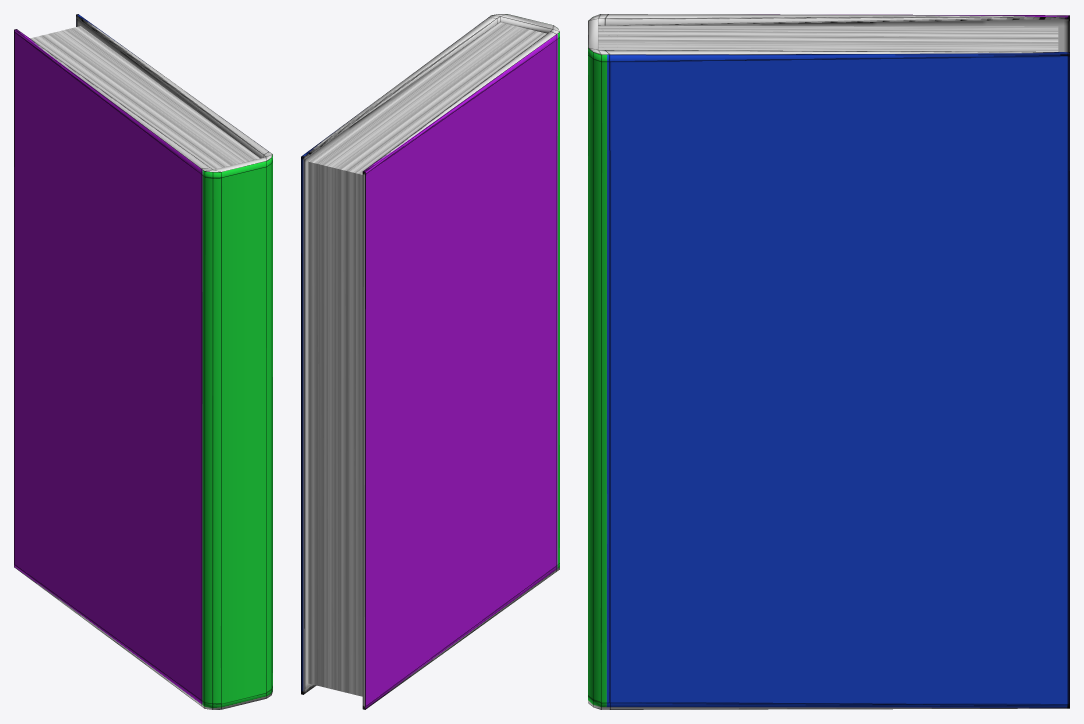
File: book.gltf
3 views of the same model, side by side, from view 1: azimuth 30°, elevation 25°; view 2: azimuth 150°, elevation 25°; view 3: azimuth 270°, elevation 25° (orthographic). The views are drawn at different scales.
Visible parts, largest first — view 1: Cube, Cube.001; view 2: Cube, Cube.001; view 3: Cube, Cube.001.
Part boxes in pixels (x1,y1,x2,y2): Cube: [14, 14, 272, 709]; Cube.001: [30, 26, 259, 169]; Cube: [301, 14, 559, 709]; Cube.001: [308, 22, 546, 696]; Cube: [588, 14, 1069, 709]; Cube.001: [598, 25, 1058, 51].
Size of the model in its own units: 0.4 by 3 by 2.
Materials: 2 (2 with a texture image).
